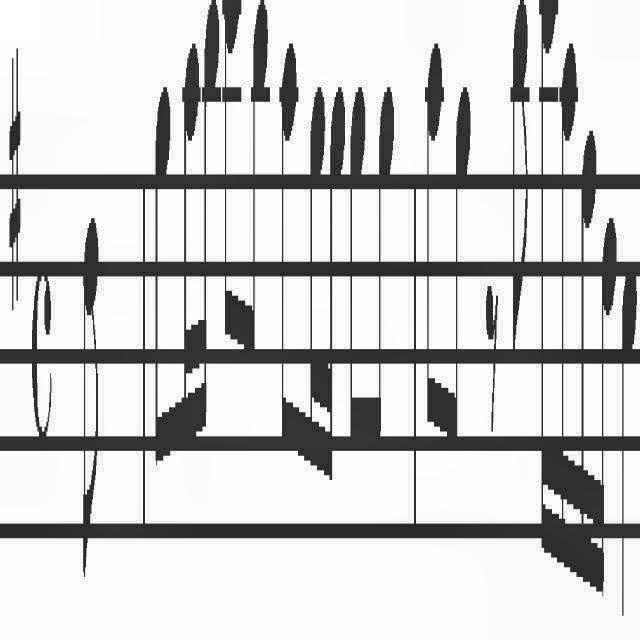Diez: (8, 45, 22, 315)
Eighth-note: (368, 70, 396, 474), (444, 86, 472, 458), (242, 0, 270, 354), (80, 195, 102, 610), (152, 67, 172, 493), (280, 38, 300, 460), (425, 35, 443, 453), (348, 74, 366, 466), (511, 0, 529, 372), (222, 0, 241, 348)
Quarter-note: (622, 258, 638, 620)
Sixteenth-note: (538, 0, 558, 572), (559, 40, 577, 598), (200, 0, 219, 460), (182, 37, 202, 471), (578, 121, 596, 603), (596, 205, 616, 623), (326, 83, 346, 484), (306, 80, 326, 480)
